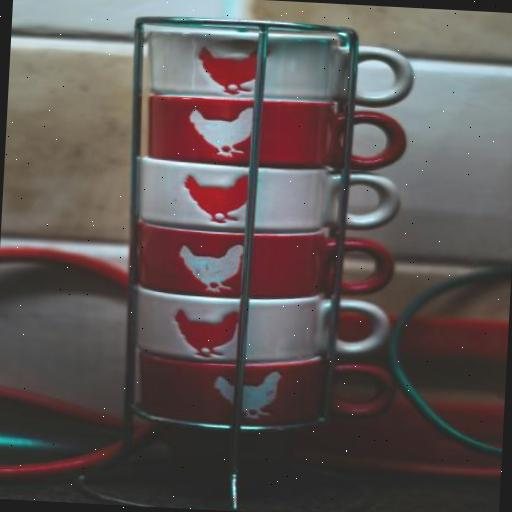cup: (133, 220, 399, 306), (144, 94, 410, 172), (136, 350, 397, 429)
